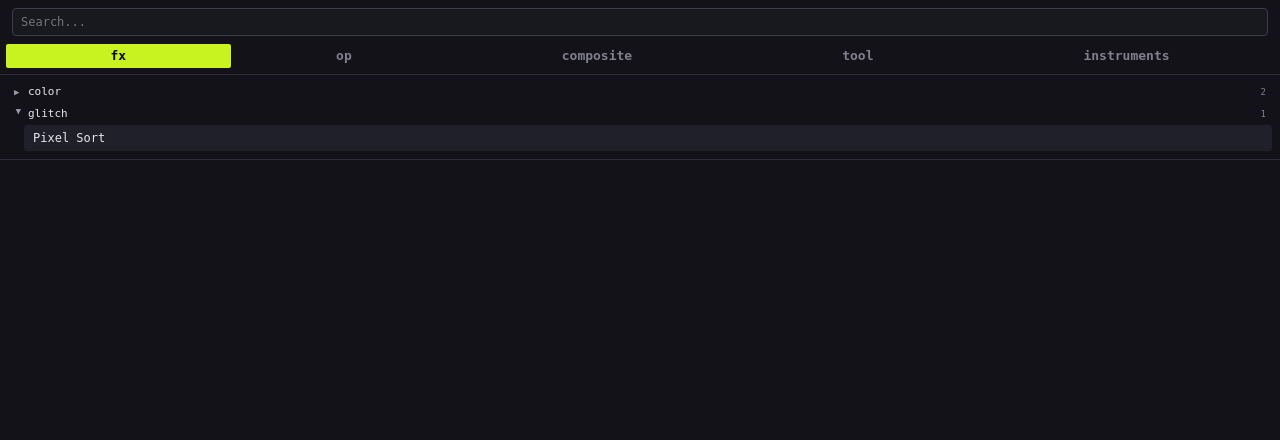
Test: P3.2 — [op] tab › tab switch to op shows operator stubs
Step 1. Click the tab with test id "browser-tab-op" → (344, 56), box x1=232 y1=44 x2=456 y2=68
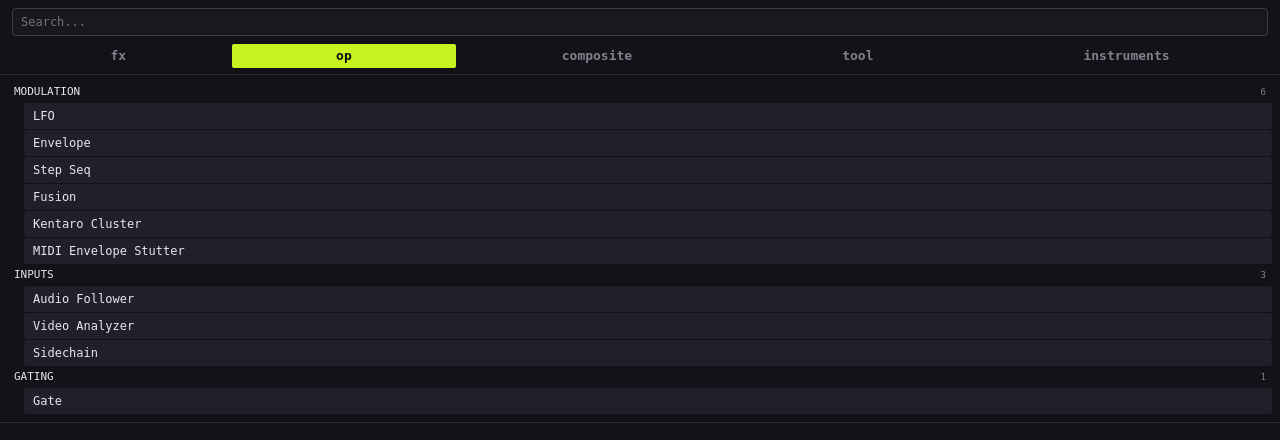
Now the element with test id "op-tab-content" is shown
Now the button with test id "op-item-lfo" is shown, box x1=24 y1=103 x2=1272 y2=129
